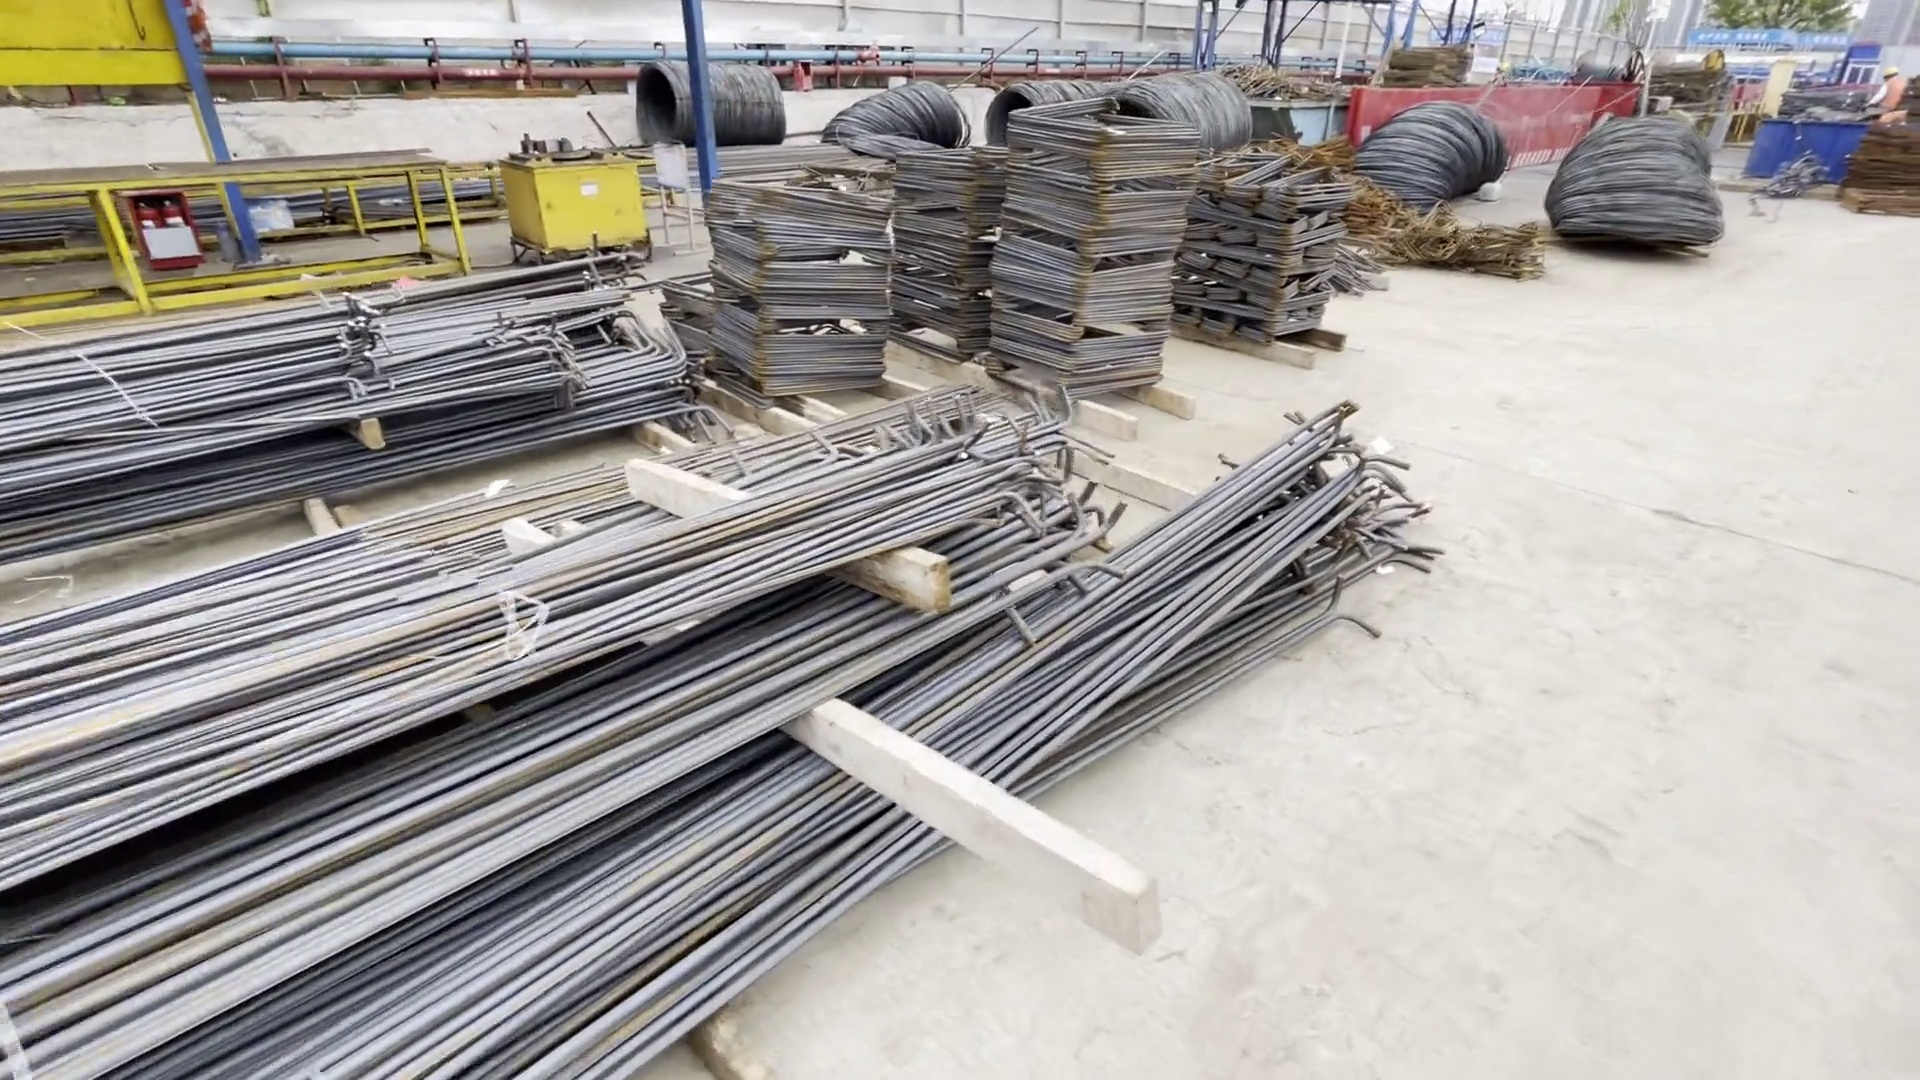fence: (1343, 93, 1643, 188)
hopper: (1246, 98, 1349, 147)
person: (1871, 64, 1906, 120)
rebar: (1, 388, 1381, 1078), (1, 251, 669, 562)
